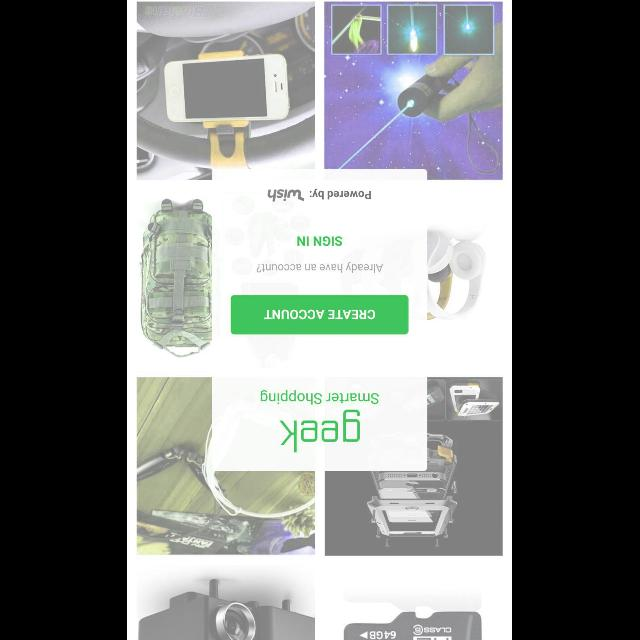backgroundimage: (128, 1, 512, 640)
image: (268, 188, 304, 202)
panel: (212, 169, 428, 471)
text: (280, 410, 360, 452), (260, 390, 380, 404), (258, 261, 384, 273), (310, 188, 372, 200), (298, 236, 344, 246)
textbutton: (231, 296, 409, 334)
